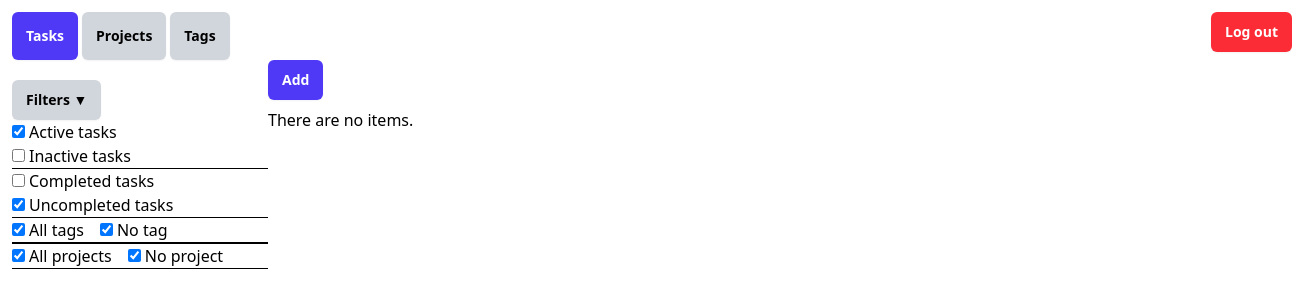
MainView › shows tag view after switching to tag view
Click the button "Tags" at (200, 36), box [170,12,230,60]
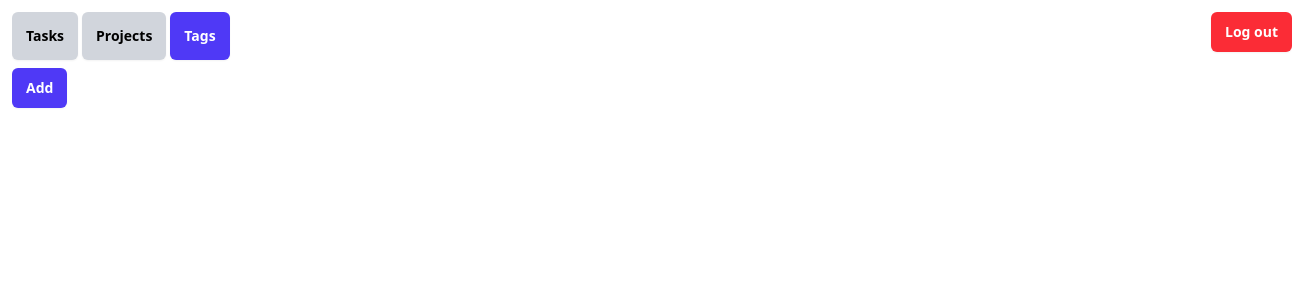
Expected: the element with test id "tag-view" is shown, [12,68,67,108]
Now the element with test id "task-view" is gone
